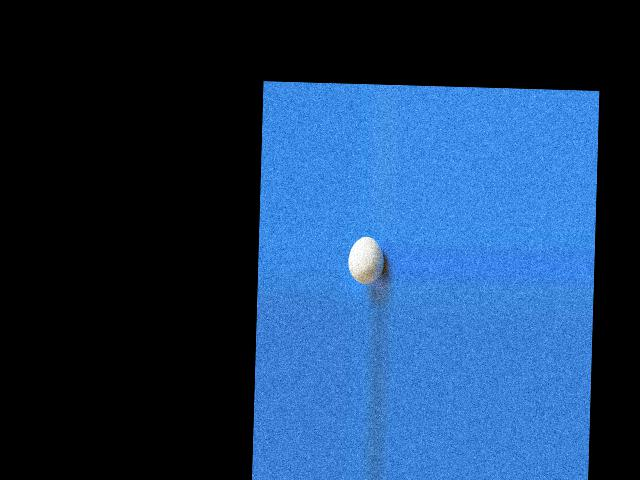egg: (347, 235, 384, 285)
